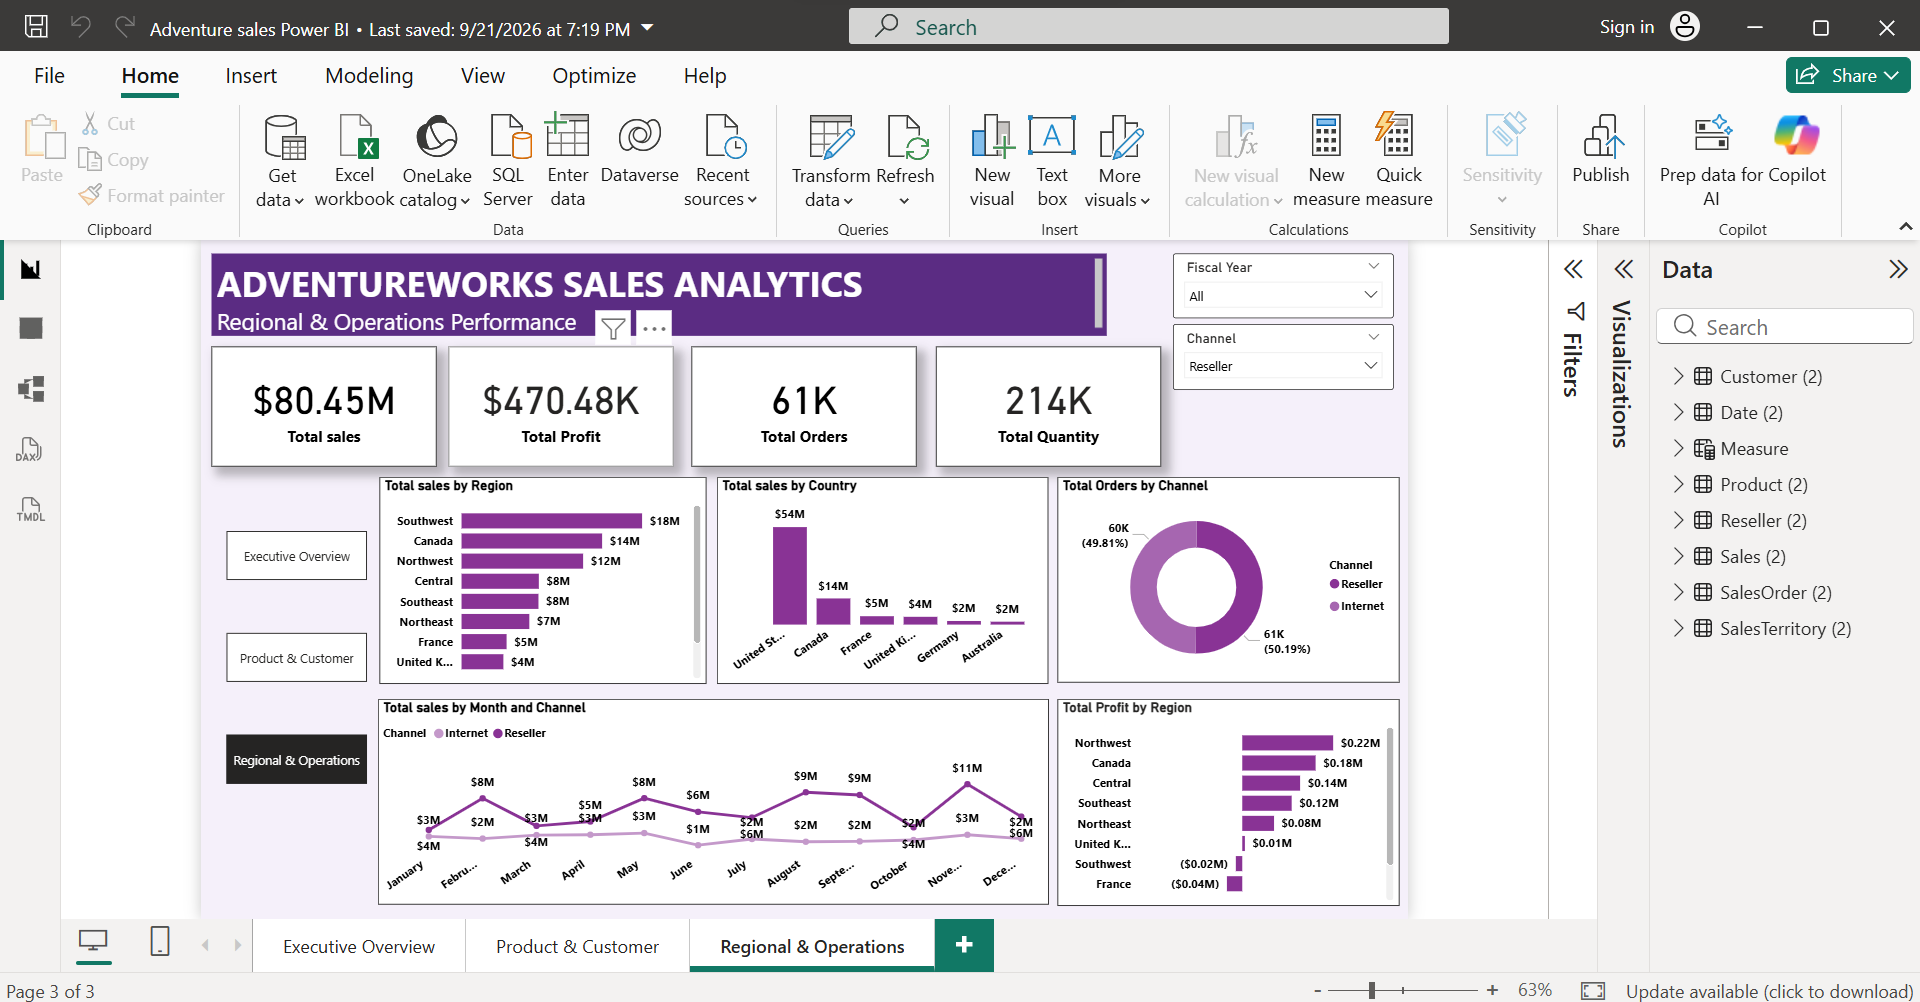

The dashboard page shown, as its layout file describes it:
{"tool":"powerbi","page":{"name":"Regional & Operations","canvas":[1280,720],"ordinal":2},"visuals":[{"type":"textbox","box":[11.1,14.3,949.6,87.5],"z":0},{"type":"pageNavigator","box":[27,308.6,149.5,268.8],"z":1000},{"type":"slicer","fields":{"Values":["Date (2).Fiscal Year"]},"box":[1030.7,14.3,233.8,68.4],"z":2000},{"type":"card","fields":{"Values":["Measure.Total sales"]},"box":[11.1,112.9,238.6,127.2],"z":3000},{"type":"card","fields":{"Values":["Measure.Total Profit"]},"box":[262.5,112.9,238.6,127.2],"z":4000},{"type":"card","fields":{"Values":["Measure.Total Orders"]},"box":[520.1,112.9,238.6,127.2],"z":5000},{"type":"card","fields":{"Values":["Measure.Total Quantity"]},"box":[779.4,112.9,238.6,127.2],"z":6000},{"type":"clusteredBarChart","fields":{"Category":["SalesTerritory (2).Region"],"Y":["Measure.Total sales"]},"box":[189.3,251.3,346.8,219.5],"z":7000},{"type":"clusteredBarChart","fields":{"Category":["SalesTerritory (2).Region"],"Y":["Measure.Total Profit"]},"box":[908.2,486.7,362.7,219.5],"z":8000},{"type":"clusteredColumnChart","fields":{"Category":["SalesTerritory (2).Country"],"Y":["Measure.Total sales"]},"box":[547.2,251.3,351.5,219.5],"z":9000},{"type":"donutChart","fields":{"Category":["SalesOrder (2).Channel"],"Y":["Measure.Total Orders"]},"box":[908.2,251.3,362.7,217.9],"z":11000},{"type":"lineChart","fields":{"Category":["Date (2).Month.Variation.Date Hierarchy.Month"],"Y":["Measure.Total sales"],"Series":["SalesOrder (2).Channel"]},"box":[187.7,486.7,711,217.9],"z":12000},{"type":"slicer","fields":{"Values":["SalesOrder (2).Channel"]},"box":[1030.7,89.1,233.8,70],"z":13000}]}

Visuals, with their boxes on the page's 1280x720 design canvas (x1, y1, x2, y2). These are canvas units, not pixel positions in the 1920x1002 screenshot, which may show the page scaled, cropped or inside an application window:
textbox: region(11, 14, 961, 102)
pageNavigator: region(27, 309, 176, 577)
slicer - Date (2).Fiscal Year: region(1031, 14, 1264, 83)
card - Measure.Total sales: region(11, 113, 250, 240)
card - Measure.Total Profit: region(262, 113, 501, 240)
card - Measure.Total Orders: region(520, 113, 759, 240)
card - Measure.Total Quantity: region(779, 113, 1018, 240)
clusteredBarChart - SalesTerritory (2).Region x Measure.Total sales: region(189, 251, 536, 471)
clusteredBarChart - SalesTerritory (2).Region x Measure.Total Profit: region(908, 487, 1271, 706)
clusteredColumnChart - SalesTerritory (2).Country x Measure.Total sales: region(547, 251, 899, 471)
donutChart - SalesOrder (2).Channel x Measure.Total Orders: region(908, 251, 1271, 469)
lineChart - Date (2).Month.Variation.Date Hierarchy.Month x Measure.Total sales: region(188, 487, 899, 705)
slicer - SalesOrder (2).Channel: region(1031, 89, 1264, 159)
